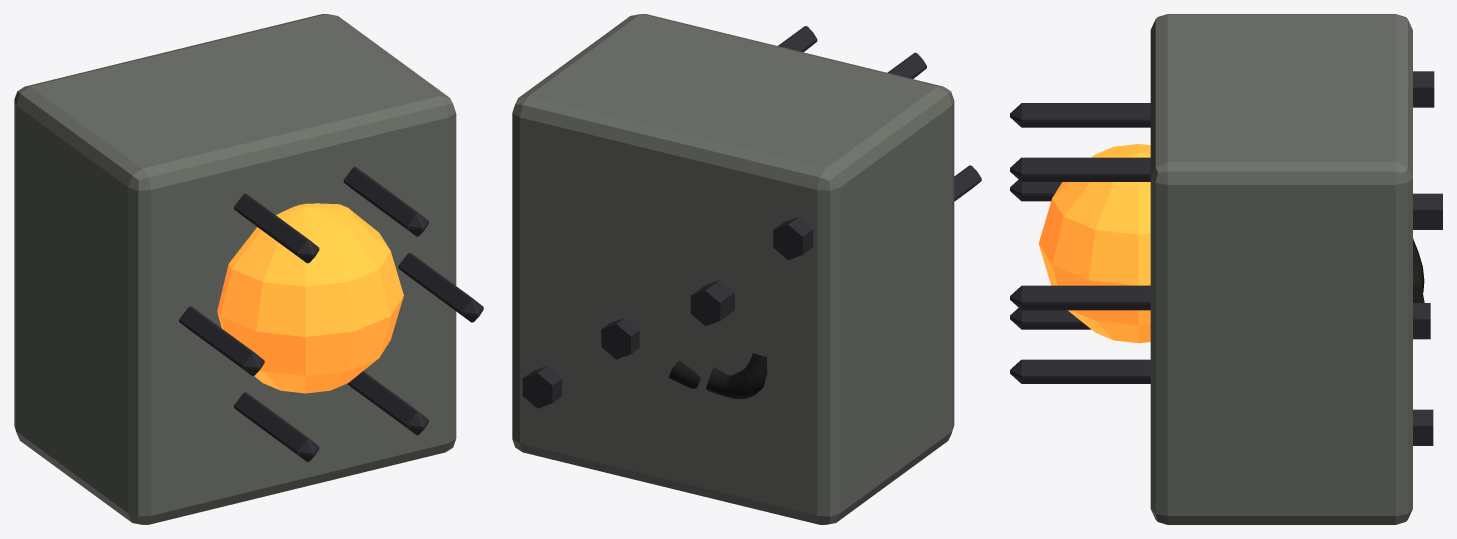
File: mo_phoenix.glb
3 renders of one model, left to right at view 1: azimuth 30°, elevation 25°; view 2: azimuth 150°, elevation 25°; view 3: azimuth 270°, elevation 25°, orthographic.
Visible parts, largest first — view 1: mo_phoenix; view 2: mo_phoenix; view 3: mo_phoenix.
Part boxes in pixels (x1=…): mo_phoenix: x1=14, y1=14, x2=483, y2=524; mo_phoenix: x1=512, y1=14, x2=981, y2=524; mo_phoenix: x1=1010, y1=14, x2=1442, y2=524.
Size of the model in its own units: 0.1153 by 0.1202 by 0.1302.
